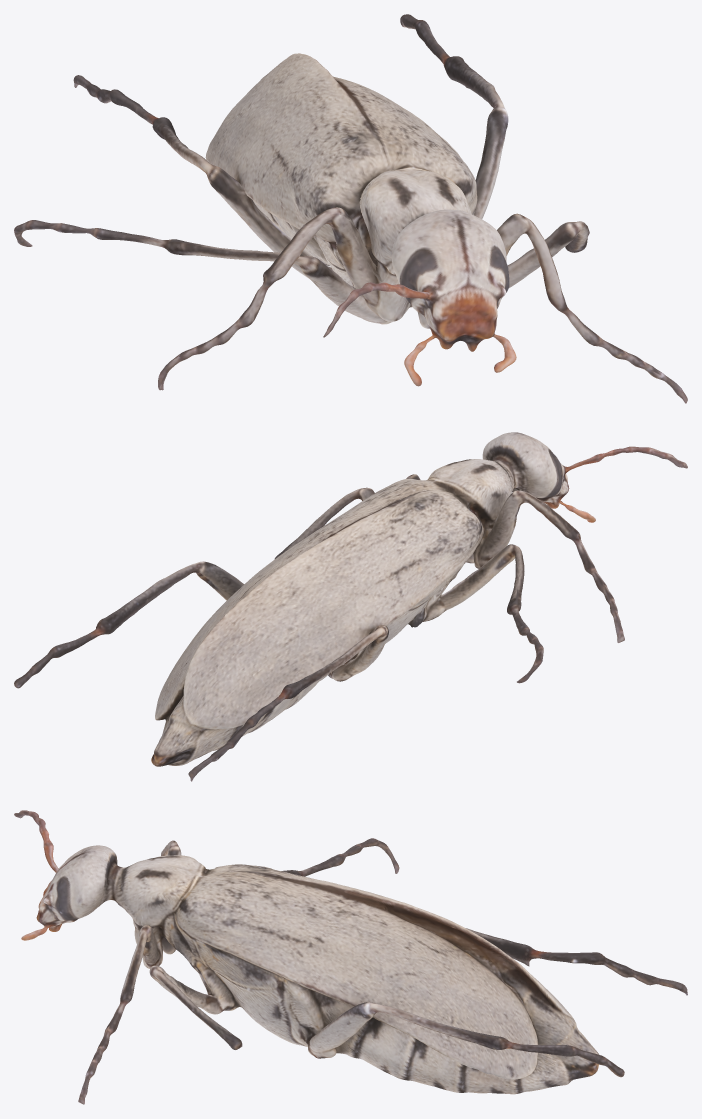
The model's file is blister-beetle-real-scan.glb.
3 views of the same model, one above another, from view 1: azimuth 30°, elevation 25°; view 2: azimuth 150°, elevation 25°; view 3: azimuth 270°, elevation 25° (orthographic). The views are drawn at different scales.
Visible parts, largest first — view 1: Object_2; view 2: Object_2; view 3: Object_2.
Boxes of the visible parts, bbox=[...] form: Object_2: bbox=[14, 14, 687, 403]; Object_2: bbox=[14, 432, 687, 781]; Object_2: bbox=[14, 810, 687, 1104].
Bounding box in the file's own units: 0.7668 × 0.3365 × 1.11.
1 material, 1 textured.
